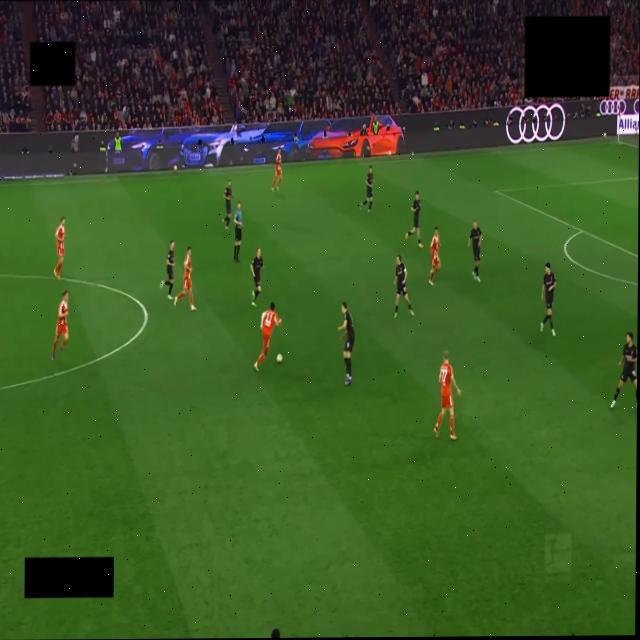ball: (276, 354, 282, 363)
player: (435, 352, 460, 440), (611, 331, 636, 408), (254, 302, 281, 371), (174, 247, 196, 311), (339, 302, 355, 385), (395, 255, 414, 317), (52, 290, 68, 359), (405, 190, 424, 248), (541, 263, 556, 336), (468, 220, 481, 282), (161, 240, 174, 300), (251, 248, 263, 306), (54, 217, 65, 279), (429, 228, 440, 285), (360, 165, 373, 212), (223, 181, 233, 230), (272, 150, 282, 191)
referee: (234, 202, 242, 262)
